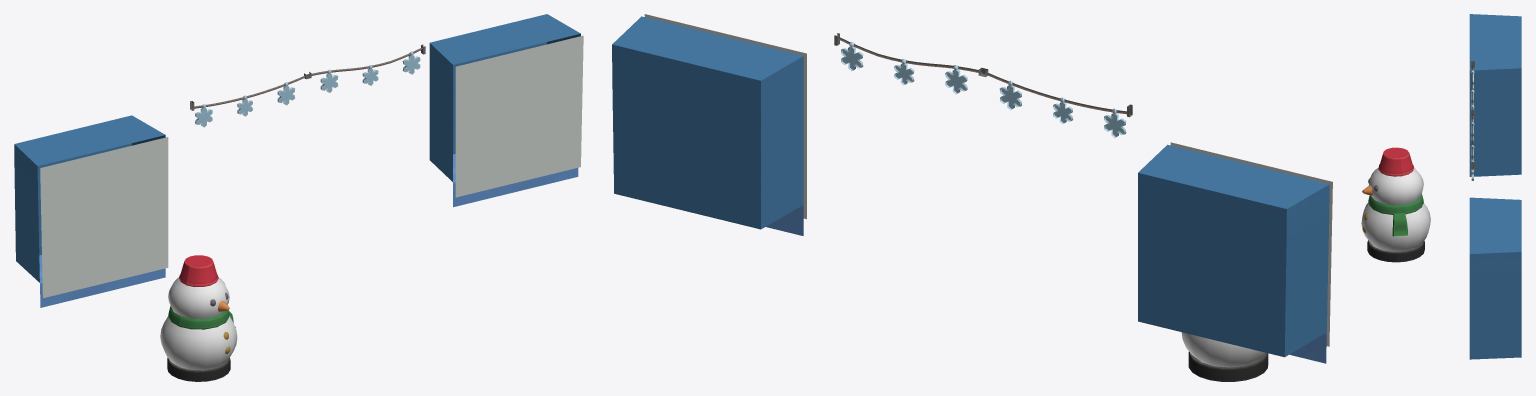
File: shop-deco-winter.glb
3 renders of one model, left to right at view 1: azimuth 30°, elevation 25°; view 2: azimuth 150°, elevation 25°; view 3: azimuth 270°, elevation 25°, orthographic. The views are drawn at different scales.
Visible parts, largest first — view 1: StrcMarketA02WinterDeco_node3, StrcMarketA02WinterDeco_node1, StrcMarketA02WinterDeco_node2; view 2: StrcMarketA02WinterDeco_node1, StrcMarketA02WinterDeco_node3, StrcMarketA02WinterDeco_node2; view 3: StrcMarketA02WinterDeco_node1, StrcMarketA02WinterDeco_node2.
Part boxes in pixels (x1,y1,x2,y2): StrcMarketA02WinterDeco_node3: [40, 35, 583, 298]; StrcMarketA02WinterDeco_node1: [14, 14, 580, 381]; StrcMarketA02WinterDeco_node2: [195, 51, 420, 127]; StrcMarketA02WinterDeco_node1: [612, 16, 1329, 381]; StrcMarketA02WinterDeco_node3: [644, 14, 1332, 346]; StrcMarketA02WinterDeco_node2: [841, 42, 1126, 137]; StrcMarketA02WinterDeco_node1: [1361, 14, 1521, 359]; StrcMarketA02WinterDeco_node2: [1470, 70, 1474, 180].
Bounding box in the file's own units: 49.21 × 19.69 × 13.86.
3 materials, 2 textured.
